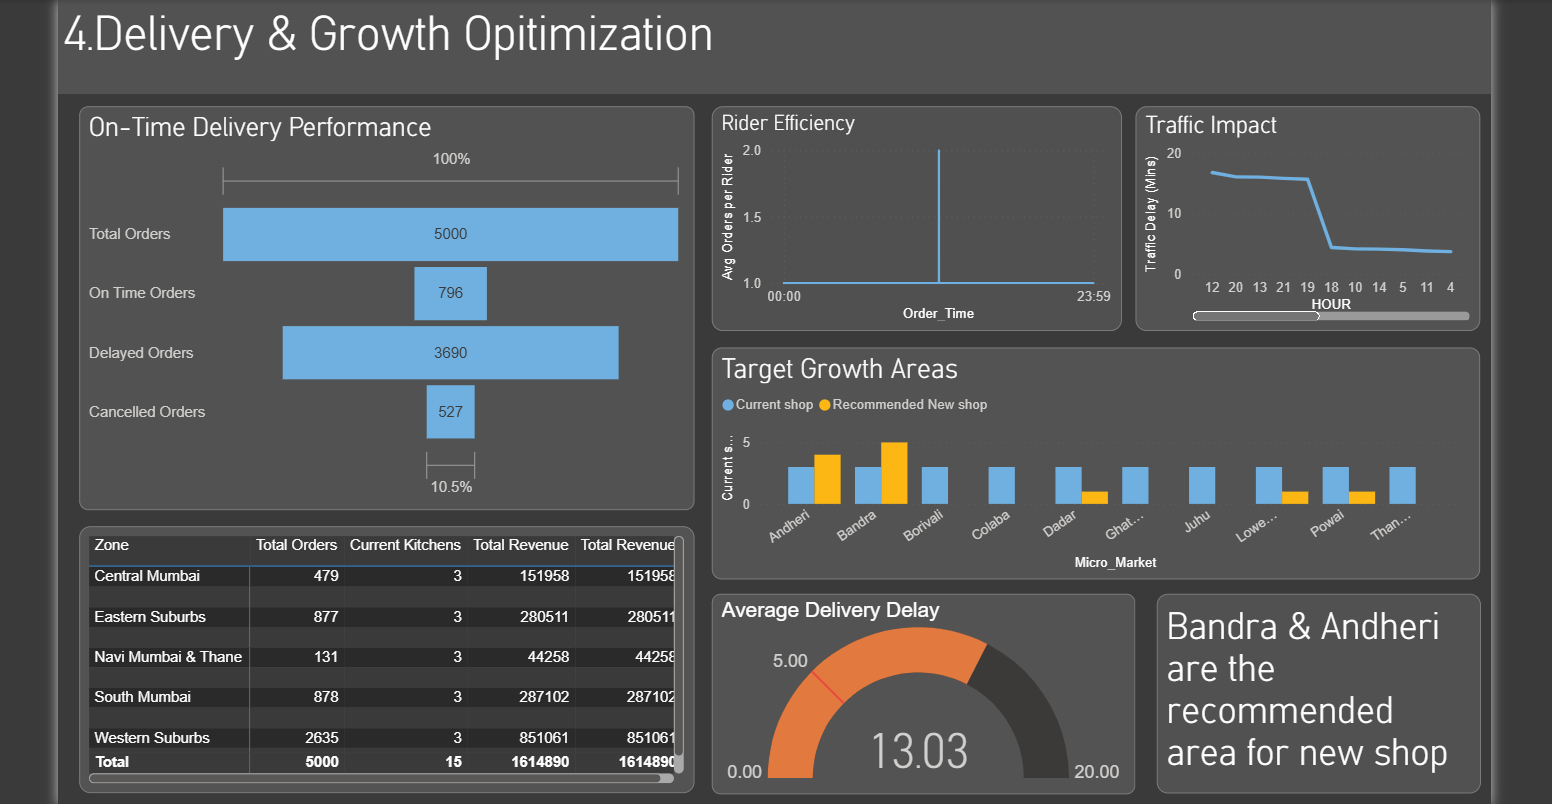

What the dashboard file says about the page in this screenshot:
{"tool":"powerbi","page":{"name":"Delivery & Growth Opitimization","canvas":[1280,720],"ordinal":3},"visuals":[{"type":"textbox","box":[0,0,1280.3,83.9],"z":0},{"type":"funnel","title":"On-Time Delivery Performance","fields":{"Y":["Cleaned Data.Total Orders","Cleaned Data.On Time Orders","Cleaned Data.Delayed Orders","Cleaned Data.Cancelled Orders"]},"box":[19,94.9,549.3,360.8],"z":1000},{"type":"pivotTable","fields":{"Rows":["Cleaned Data.Zone"],"Values":["Cleaned Data.Total Orders","Cleaned Data.Current Kitchens","Cleaned Data.Total Revenue","Cleaned Data.Total Revenue"]},"box":[19,470.6,549.3,238.7],"z":2000},{"type":"lineChart","title":"Rider Efficiency","fields":{"Category":["Cleaned Data.Order_Time"],"Y":["Cleaned Data.Avg Orders per Rider"]},"box":[584.5,94.9,366.2,200.7],"z":3000},{"type":"lineChart","title":"Traffic Impact","fields":{"Category":["Cleaned Data.HOUR"],"Y":["Cleaned Data.Traffic Delay (Mins)"]},"box":[962.9,94.9,307.9,200.7],"z":4000},{"type":"clusteredColumnChart","title":"Target Growth Areas","fields":{"Category":["Cleaned Data.Micro_Market"],"Y":["Cleaned Data.Current shop","Cleaned Data.Recommended New shop"]},"box":[584.5,310.6,686.2,207.5],"z":5000},{"type":"gauge","fields":{"Y":["Cleaned Data.Average Delivery Delay"]},"box":[584.5,530.3,378.4,179],"z":6000},{"type":"textbox","box":[963,530,308,179],"z":7000},{"type":"textbox","box":[981.2,530.5,289.6,178.6],"z":8000}]}

Visuals, with their boxes on the page's 1280x720 design canvas (x1, y1, x2, y2). These are canvas units, not pixel positions in the 1552x804 screenshot, which may show the page scaled, cropped or inside an application window:
textbox: (left=0, top=0, right=1280, bottom=84)
"On-Time Delivery Performance" funnel: (left=19, top=95, right=568, bottom=456)
pivotTable - Cleaned Data.Zone x Cleaned Data.Total Orders: (left=19, top=471, right=568, bottom=709)
"Rider Efficiency" lineChart: (left=584, top=95, right=951, bottom=296)
"Traffic Impact" lineChart: (left=963, top=95, right=1271, bottom=296)
"Target Growth Areas" clusteredColumnChart: (left=584, top=311, right=1271, bottom=518)
gauge - Cleaned Data.Average Delivery Delay: (left=584, top=530, right=963, bottom=709)
textbox: (left=963, top=530, right=1271, bottom=709)
textbox: (left=981, top=530, right=1271, bottom=709)
